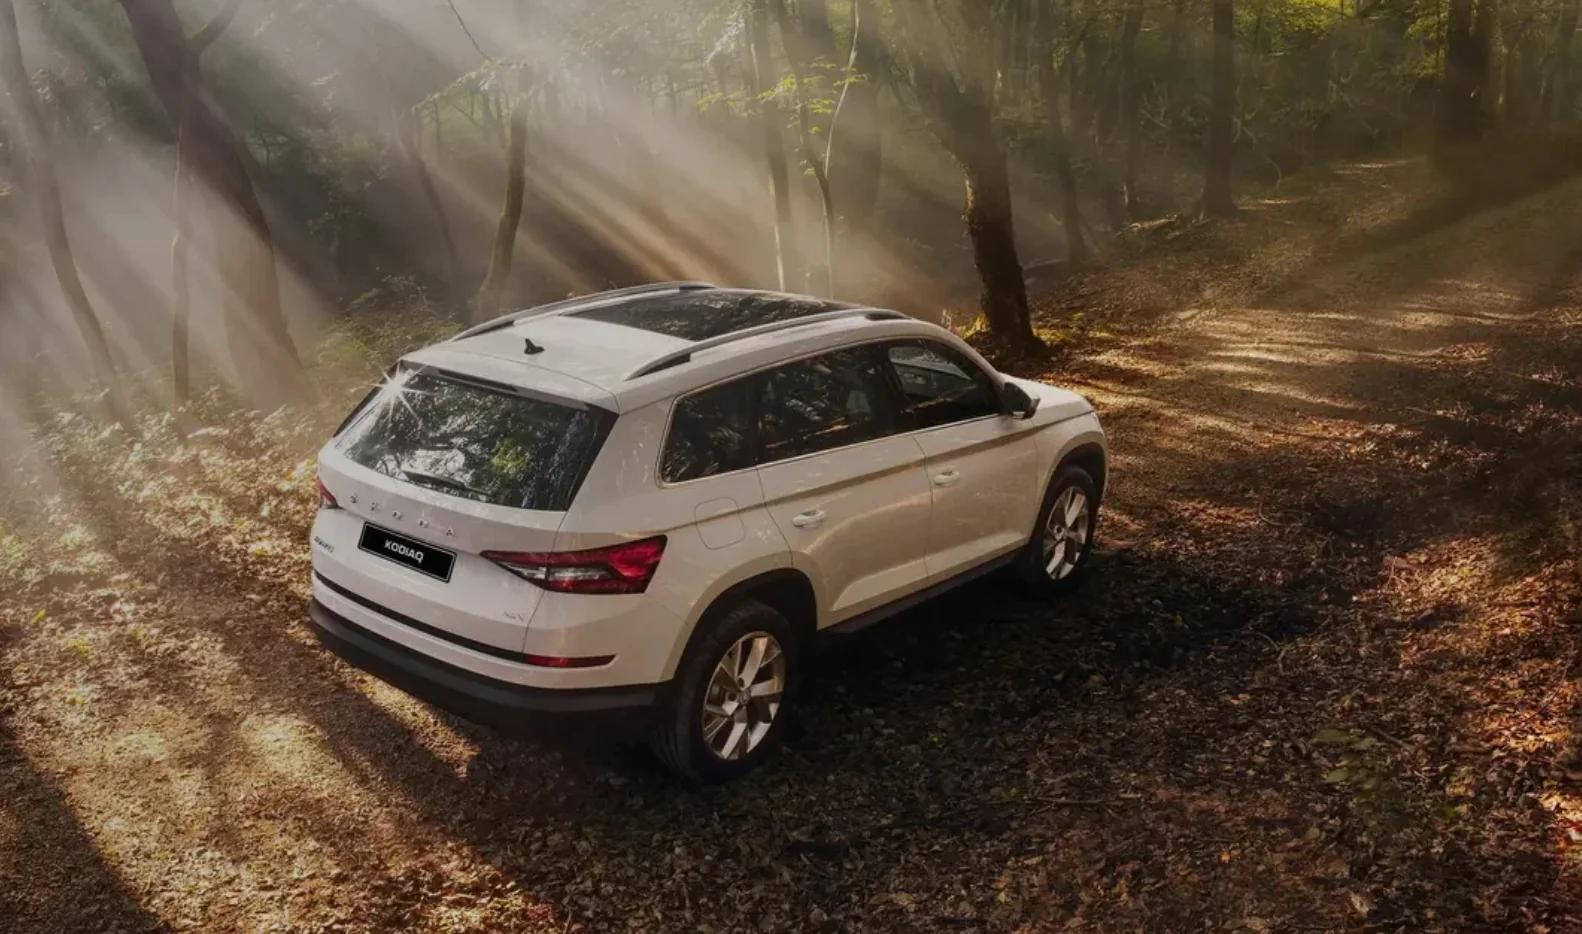skoda: (330, 478, 478, 549)
